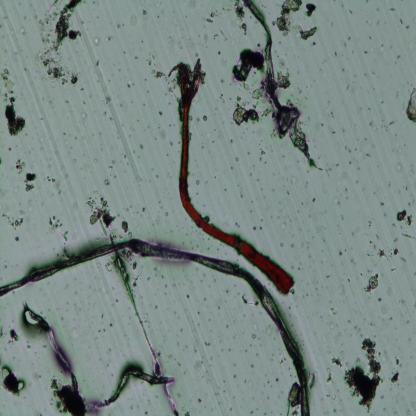Anthropogenic: (170, 61, 298, 292)
Background material: (108, 259, 178, 416), (38, 0, 83, 85), (344, 363, 382, 412), (47, 378, 87, 416), (146, 53, 178, 100), (88, 184, 115, 233), (231, 91, 263, 129), (0, 95, 28, 137), (230, 48, 264, 82), (276, 0, 302, 40), (50, 215, 74, 258), (362, 336, 382, 377), (3, 364, 25, 398), (203, 4, 230, 24), (306, 155, 331, 175), (0, 210, 25, 228), (295, 22, 319, 40), (288, 380, 301, 412), (405, 87, 416, 123), (0, 68, 15, 92), (364, 272, 380, 294), (275, 69, 291, 90), (232, 0, 245, 23), (252, 80, 264, 100), (261, 106, 277, 120), (14, 159, 27, 176), (122, 218, 132, 239), (387, 246, 400, 260), (67, 67, 77, 84), (271, 127, 283, 141), (8, 329, 19, 344), (390, 368, 400, 384), (306, 2, 316, 17), (326, 366, 334, 384), (238, 23, 249, 36), (353, 326, 363, 340), (331, 356, 343, 367), (332, 195, 343, 206), (401, 233, 416, 241), (131, 10, 139, 24), (397, 209, 407, 220), (181, 405, 191, 416), (394, 356, 402, 368), (25, 182, 34, 192), (142, 312, 150, 323), (19, 25, 27, 36), (337, 284, 345, 295), (219, 28, 226, 40), (3, 90, 9, 104), (241, 81, 250, 90), (377, 249, 386, 258), (367, 215, 373, 228), (27, 173, 38, 180), (242, 293, 249, 304), (106, 96, 114, 105), (407, 214, 413, 226), (329, 306, 338, 314), (277, 356, 286, 364), (160, 129, 167, 139), (158, 350, 165, 360), (218, 92, 225, 102), (396, 162, 403, 172), (48, 176, 56, 184), (285, 98, 293, 106), (104, 178, 112, 186), (130, 280, 138, 288), (250, 299, 258, 307), (398, 297, 406, 305), (104, 34, 112, 42), (266, 327, 275, 334), (131, 260, 138, 269), (0, 325, 5, 337), (369, 321, 377, 328), (80, 112, 88, 119), (405, 408, 412, 416), (366, 250, 373, 258), (408, 199, 415, 207), (395, 89, 401, 98), (332, 49, 338, 58), (213, 31, 219, 40), (202, 113, 207, 123), (299, 240, 305, 248), (152, 302, 158, 310), (295, 99, 301, 107), (282, 221, 288, 229), (63, 138, 68, 147), (412, 300, 416, 311), (316, 226, 322, 233), (329, 111, 335, 118), (234, 155, 240, 162), (14, 235, 20, 242), (9, 28, 15, 35), (404, 318, 411, 324), (113, 23, 121, 28), (142, 10, 147, 18), (297, 86, 302, 94), (26, 342, 31, 350), (380, 42, 385, 50), (388, 44, 394, 50), (320, 58, 326, 64), (163, 283, 169, 289), (194, 179, 200, 185), (260, 148, 266, 154), (401, 256, 406, 263), (396, 53, 403, 58), (139, 143, 144, 150), (331, 393, 336, 400), (271, 19, 276, 26), (388, 177, 391, 188), (344, 187, 348, 195), (95, 36, 99, 44), (364, 71, 370, 76), (243, 378, 248, 384), (256, 42, 261, 48), (382, 406, 387, 412), (97, 130, 102, 136), (204, 341, 210, 346), (152, 266, 158, 271), (234, 222, 240, 227), (193, 348, 199, 353), (146, 276, 151, 282), (341, 2, 346, 8), (212, 277, 217, 283), (185, 293, 190, 299), (157, 110, 163, 115), (338, 249, 343, 255), (380, 201, 385, 207), (290, 289, 295, 295), (369, 120, 373, 127), (253, 333, 257, 340), (378, 350, 382, 357), (128, 82, 132, 89), (189, 114, 193, 121), (347, 277, 351, 284), (410, 164, 413, 173), (42, 343, 47, 348), (247, 343, 252, 348), (340, 68, 345, 73), (406, 24, 411, 29), (215, 391, 220, 396), (199, 359, 204, 364), (199, 278, 204, 283), (380, 395, 385, 400), (367, 35, 372, 40), (365, 152, 370, 157), (108, 116, 113, 121), (376, 234, 380, 240), (233, 362, 237, 368), (64, 173, 68, 179), (340, 214, 344, 220), (194, 52, 198, 58), (177, 360, 181, 366), (40, 146, 44, 152), (46, 308, 52, 312), (355, 178, 359, 184), (312, 197, 316, 203), (354, 146, 358, 152), (160, 273, 164, 279), (254, 352, 260, 356), (177, 392, 181, 398), (332, 408, 336, 414), (115, 297, 119, 303), (392, 222, 396, 228), (356, 358, 360, 364), (134, 54, 138, 60), (339, 98, 343, 104), (250, 363, 254, 369), (389, 121, 395, 125), (103, 110, 107, 116), (392, 237, 398, 241), (177, 340, 180, 347), (233, 332, 236, 339), (290, 265, 294, 270), (372, 244, 376, 249), (305, 181, 309, 186), (54, 150, 58, 155), (296, 69, 300, 74), (275, 377, 279, 382), (394, 410, 398, 415), (368, 268, 373, 272), (168, 354, 173, 358), (58, 190, 63, 194), (0, 156, 2, 166), (266, 379, 270, 384), (348, 160, 352, 165), (142, 207, 146, 212), (347, 148, 351, 153), (113, 173, 117, 178), (286, 178, 290, 183), (300, 202, 305, 206), (198, 398, 202, 403), (394, 138, 398, 143), (226, 324, 230, 329), (330, 22, 334, 27), (347, 36, 351, 41), (144, 411, 149, 415), (202, 272, 206, 277), (73, 158, 77, 163), (108, 165, 112, 170), (60, 317, 65, 321), (338, 331, 342, 336), (306, 245, 310, 250), (325, 274, 330, 278), (280, 242, 284, 247), (375, 7, 380, 11), (369, 240, 373, 245), (398, 189, 402, 194), (96, 60, 100, 65), (350, 257, 354, 262), (400, 224, 403, 230), (390, 8, 396, 11), (344, 42, 347, 48), (372, 70, 375, 76), (40, 115, 43, 121), (347, 318, 350, 324), (287, 190, 290, 196), (347, 84, 350, 90), (201, 142, 204, 148), (230, 138, 233, 144), (100, 313, 103, 319), (405, 185, 408, 191), (392, 268, 396, 272), (364, 50, 368, 54), (232, 395, 236, 399), (400, 386, 404, 390), (157, 125, 161, 129), (374, 334, 378, 338), (205, 369, 209, 373), (322, 238, 326, 242), (252, 226, 256, 230), (366, 297, 370, 301), (312, 41, 316, 45), (320, 122, 324, 126), (266, 397, 270, 401), (380, 274, 384, 278), (332, 131, 336, 135), (200, 374, 204, 378), (259, 157, 263, 161), (260, 218, 264, 222), (212, 176, 216, 180), (350, 246, 354, 250), (378, 298, 382, 302), (390, 316, 394, 320), (155, 395, 159, 399), (130, 405, 134, 409), (256, 178, 260, 182), (80, 87, 84, 91), (328, 300, 332, 304), (117, 68, 121, 72), (278, 40, 282, 44), (304, 96, 308, 100), (233, 374, 237, 378), (223, 389, 227, 393), (229, 166, 233, 170), (110, 374, 114, 378), (142, 102, 146, 106), (48, 164, 51, 169), (83, 100, 86, 105), (409, 338, 412, 343), (179, 328, 182, 333), (210, 355, 213, 360), (94, 157, 97, 162), (349, 10, 354, 13), (66, 100, 69, 105), (250, 410, 253, 415), (69, 133, 72, 138), (156, 174, 159, 179), (75, 290, 78, 295), (218, 306, 221, 311), (225, 289, 228, 294), (367, 106, 370, 111), (315, 287, 318, 292), (176, 141, 181, 144), (218, 50, 221, 55), (394, 325, 397, 330), (110, 322, 113, 327), (377, 19, 380, 24), (277, 216, 280, 221), (141, 39, 144, 44), (352, 230, 354, 237), (308, 254, 311, 258), (249, 172, 252, 176), (74, 136, 77, 140), (166, 212, 169, 216), (351, 50, 354, 54), (346, 196, 349, 200), (342, 128, 345, 132), (263, 412, 266, 416), (218, 386, 221, 390), (8, 148, 12, 151), (247, 151, 250, 155), (336, 322, 338, 328), (302, 294, 305, 298), (291, 243, 294, 247), (151, 167, 154, 171), (184, 14, 187, 18), (289, 304, 291, 310), (157, 15, 160, 19), (360, 272, 363, 276), (381, 100, 384, 104), (169, 123, 172, 127), (222, 379, 226, 382), (82, 136, 85, 140), (126, 208, 129, 212), (384, 212, 387, 216), (409, 356, 412, 360), (149, 399, 151, 405), (197, 322, 200, 326), (112, 160, 115, 164), (225, 187, 227, 193), (400, 18, 402, 24), (230, 407, 233, 411), (124, 153, 126, 159), (218, 402, 221, 406), (385, 128, 388, 132), (288, 367, 291, 371), (106, 363, 109, 367), (272, 173, 275, 177), (241, 194, 244, 198), (282, 156, 286, 159), (353, 74, 357, 77), (270, 410, 273, 414), (251, 396, 254, 400), (353, 261, 356, 265), (297, 266, 300, 270), (259, 227, 263, 230), (158, 200, 161, 204), (356, 228, 359, 232), (403, 142, 406, 146), (108, 348, 111, 352), (340, 351, 344, 354), (170, 141, 173, 145), (121, 104, 124, 108), (326, 394, 330, 397), (138, 154, 140, 159), (198, 310, 200, 315), (410, 82, 412, 87), (130, 204, 132, 209), (345, 145, 347, 150), (306, 292, 308, 297), (180, 45, 182, 50), (381, 119, 384, 122), (276, 55, 279, 58), (99, 289, 102, 292), (101, 321, 104, 324), (228, 348, 231, 351), (278, 209, 281, 212), (250, 209, 253, 212), (260, 139, 263, 142), (365, 137, 368, 140), (264, 161, 267, 164), (61, 166, 64, 169), (340, 343, 343, 346), (320, 68, 322, 72), (271, 358, 273, 362), (366, 0, 370, 2), (127, 162, 129, 166), (282, 62, 284, 66), (344, 248, 346, 252), (322, 249, 324, 253), (204, 296, 206, 300), (212, 140, 214, 144), (395, 132, 397, 136), (161, 206, 163, 210), (167, 153, 169, 157), (148, 125, 150, 129), (104, 328, 106, 332), (214, 128, 216, 132), (308, 214, 310, 218), (325, 226, 327, 230), (373, 191, 375, 195), (310, 209, 312, 213), (144, 77, 146, 81), (140, 214, 142, 218), (414, 272, 416, 276), (336, 163, 338, 166), (63, 134, 66, 136), (366, 20, 368, 23), (359, 107, 362, 109), (108, 80, 111, 82), (329, 350, 331, 353), (374, 87, 376, 90), (298, 210, 300, 213), (290, 374, 292, 377), (357, 139, 359, 142), (313, 80, 316, 82), (354, 124, 356, 127), (221, 348, 223, 351), (98, 329, 100, 332), (333, 0, 336, 2), (328, 100, 330, 103), (272, 353, 274, 356), (244, 350, 247, 352), (251, 200, 253, 203), (279, 202, 282, 204), (414, 408, 416, 411), (316, 312, 318, 315), (358, 166, 360, 169), (312, 235, 314, 238), (137, 119, 139, 122), (383, 125, 386, 127), (296, 306, 298, 308), (198, 35, 200, 37), (209, 319, 211, 321), (210, 330, 212, 332), (320, 316, 322, 318), (256, 408, 258, 410), (306, 86, 308, 88), (390, 389, 392, 391), (155, 138, 157, 140), (196, 193, 198, 195), (124, 51, 126, 53), (273, 190, 275, 192), (168, 102, 170, 104), (386, 126, 388, 128), (292, 94, 293, 97), (284, 54, 287, 55), (300, 229, 301, 232), (396, 339, 397, 341), (382, 126, 383, 128), (271, 386, 272, 387)
Cellulose filter fibre: (0, 242, 313, 416), (29, 308, 174, 409), (242, 0, 311, 162)
